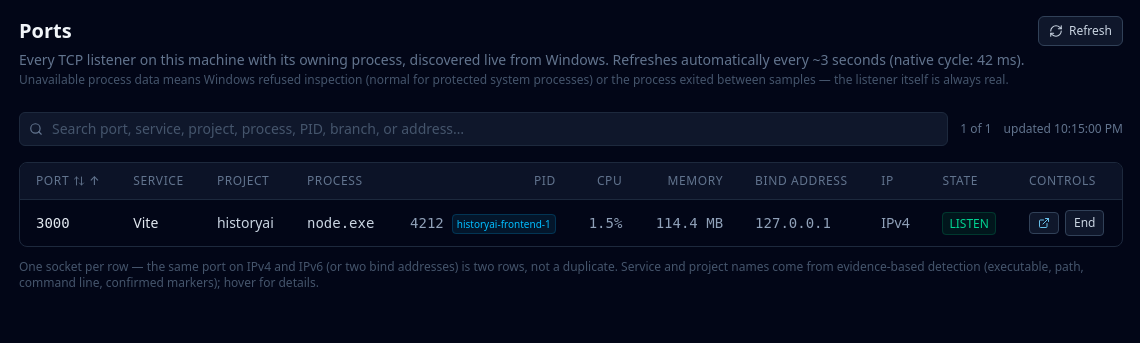
Scenario: PortsPage › search filters listener rows
Type "9999" into the field with placeholder "Search port, service, project".
click(484, 129); type("9999")  # box [19,112,948,146]
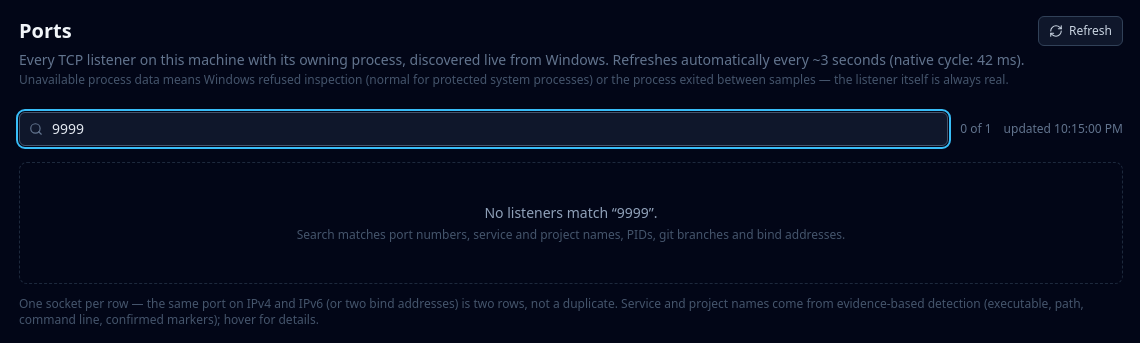
Expected: the text "No listeners match “9999”." is shown, [484,203,658,222]
